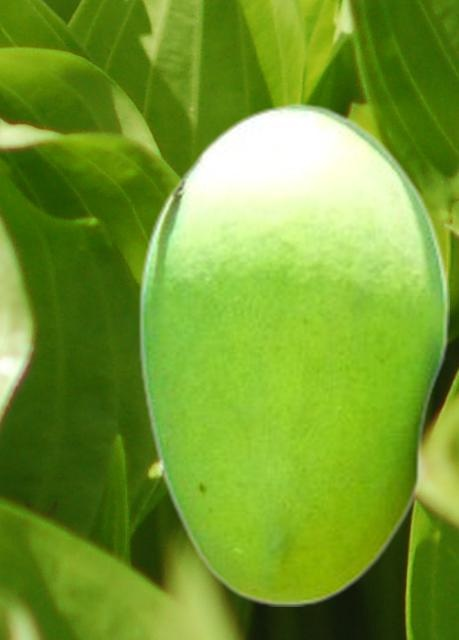green_mango: (137, 102, 448, 605)
